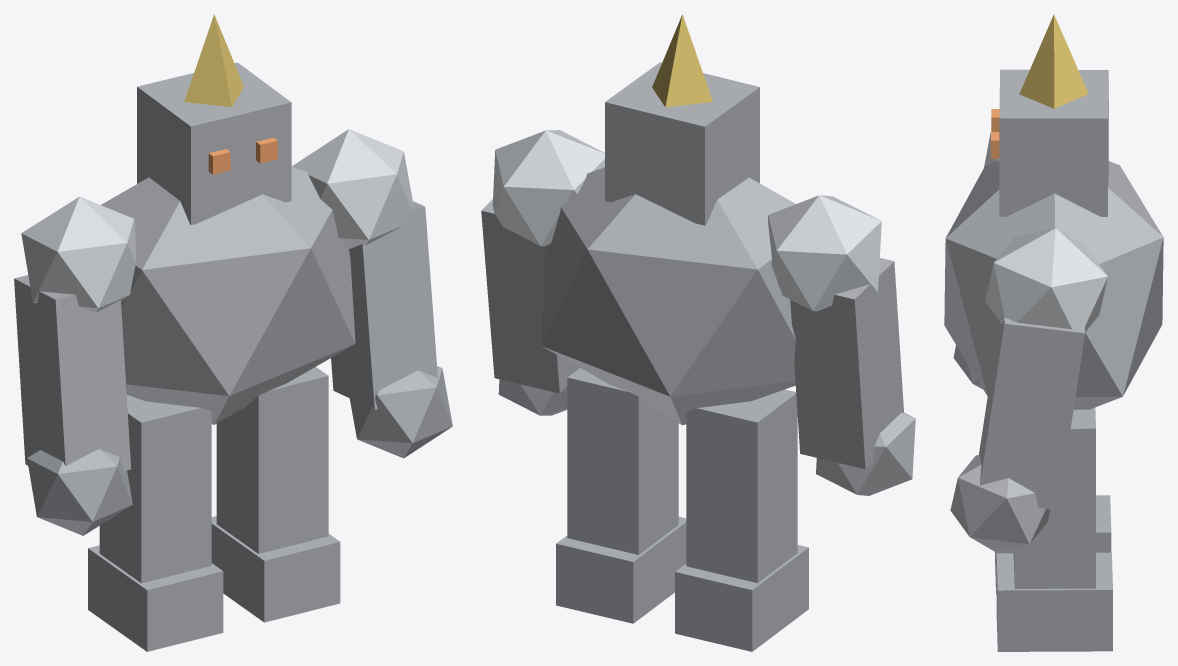
Rendered from npcpose_golem_idle_01.glb.
The picture shows the model from 3 angles, left to right: view 1: azimuth 30°, elevation 25°; view 2: azimuth 150°, elevation 25°; view 3: azimuth 270°, elevation 25°; orthographic projection.
Visible parts, largest first — view 1: npcpose; view 2: npcpose; view 3: npcpose.
Part boxes in pixels (x1=…): npcpose: x1=14, y1=14, x2=452, y2=651; npcpose: x1=481, y1=14, x2=915, y2=651; npcpose: x1=944, y1=14, x2=1163, y2=651.
Size of the model in its own units: 1.38 by 1.92 by 0.6465.
